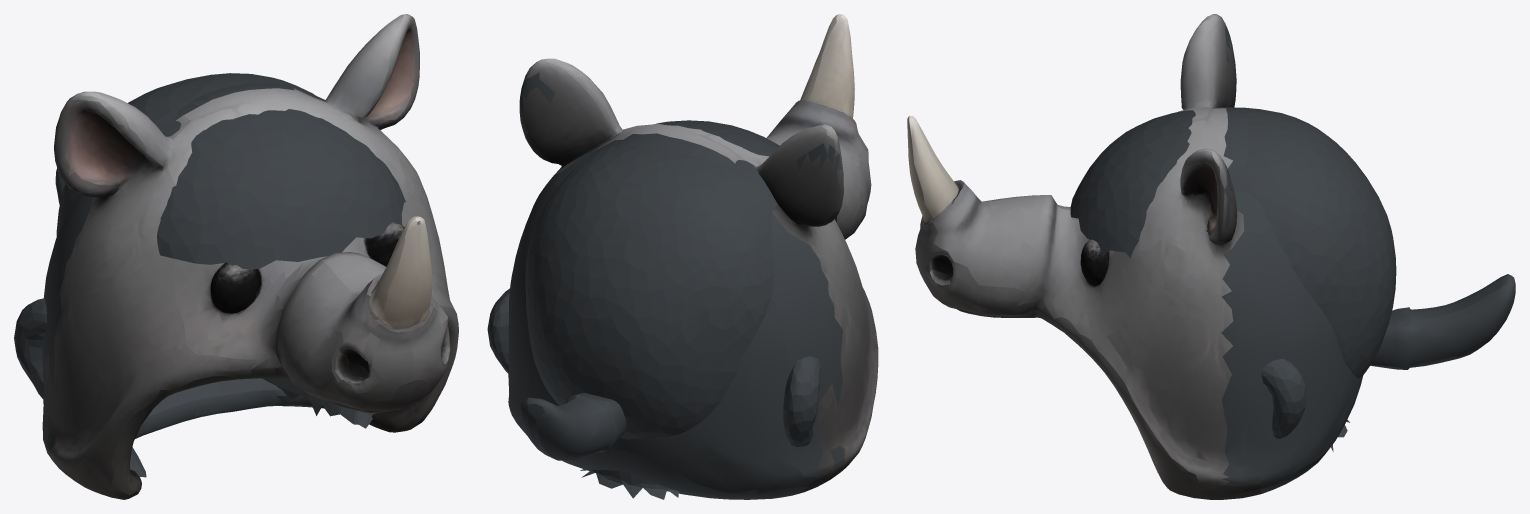
The model's file is rhino.glb.
The picture shows the model from 3 angles, left to right: view 1: azimuth 30°, elevation 25°; view 2: azimuth 150°, elevation 25°; view 3: azimuth 270°, elevation 25°; orthographic projection. The views are drawn at different scales.
Visible parts, largest first — view 1: geometry_0, HoodAnatomicalLining; view 2: geometry_0, HoodAnatomicalLining; view 3: geometry_0, HoodAnatomicalLining.
Boxes of the visible parts, x1,y1,x2,y2 form: geometry_0: (42,14,458,499); HoodAnatomicalLining: (14,73,405,477); geometry_0: (508,14,878,499); HoodAnatomicalLining: (487,120,835,499); geometry_0: (907,14,1515,499); HoodAnatomicalLining: (1070,107,1396,451).
Size of the model in its own units: 0.472 by 0.483 by 0.7504.
Materials: 2 (1 with a texture image).
